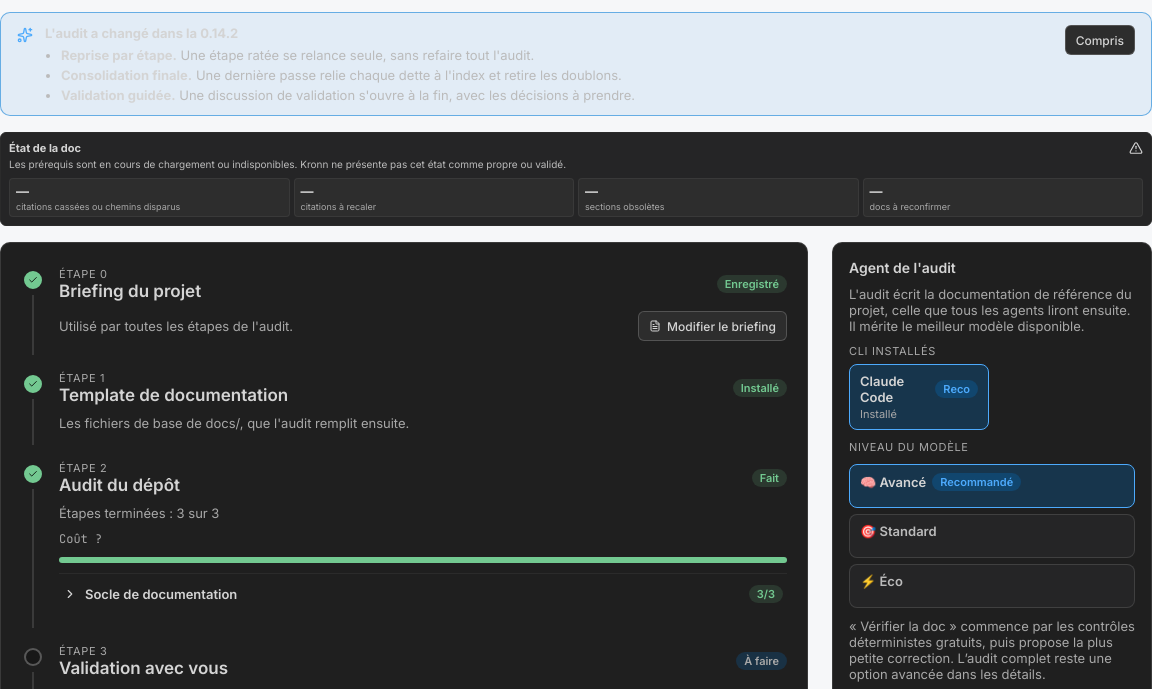
Test: AuditTimeline — unchanged steps › a re-audit whose steps are unchanged reads « Inchangé », counted done, never « Échec »
The width and height of the screenshot is (1152, 689).
Click the button with class "audit-tl-group-head".
click(161, 594)  # box [59,574,787,614]
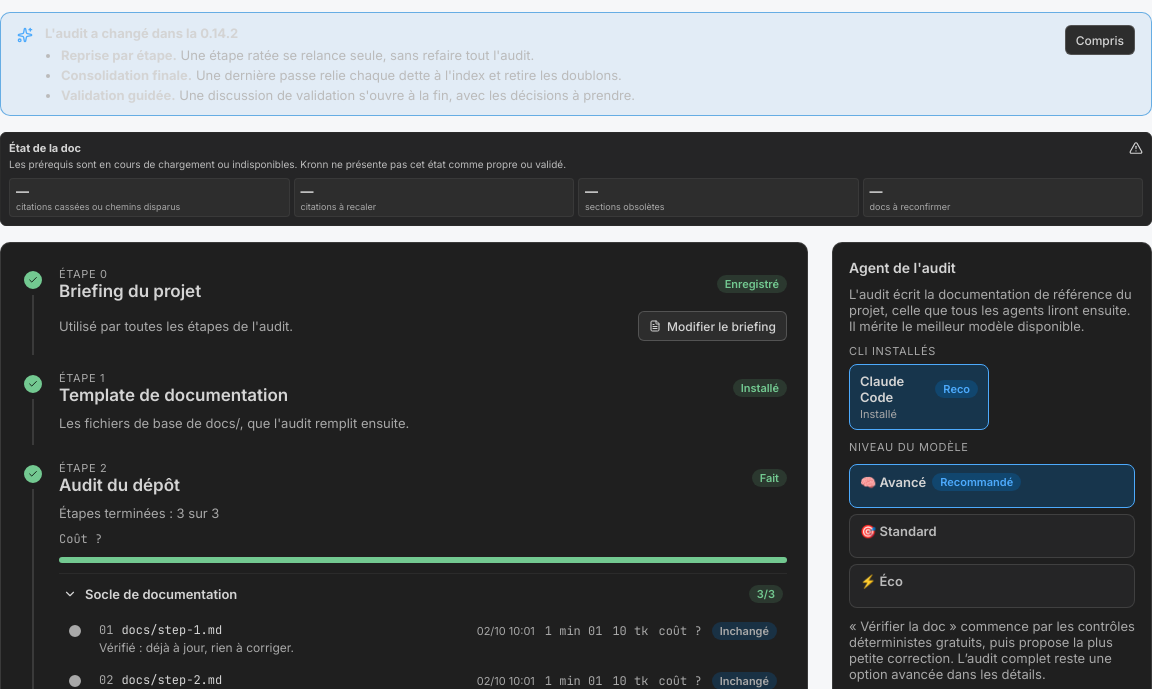
Check: the text with class "audit-tl-tag" in the row of "docs/step-1.md" reads "Inchangé", box [720,624,769,638]
